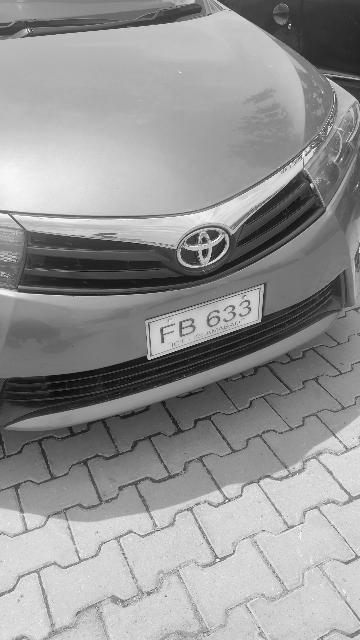Number: (157, 296, 257, 345)
